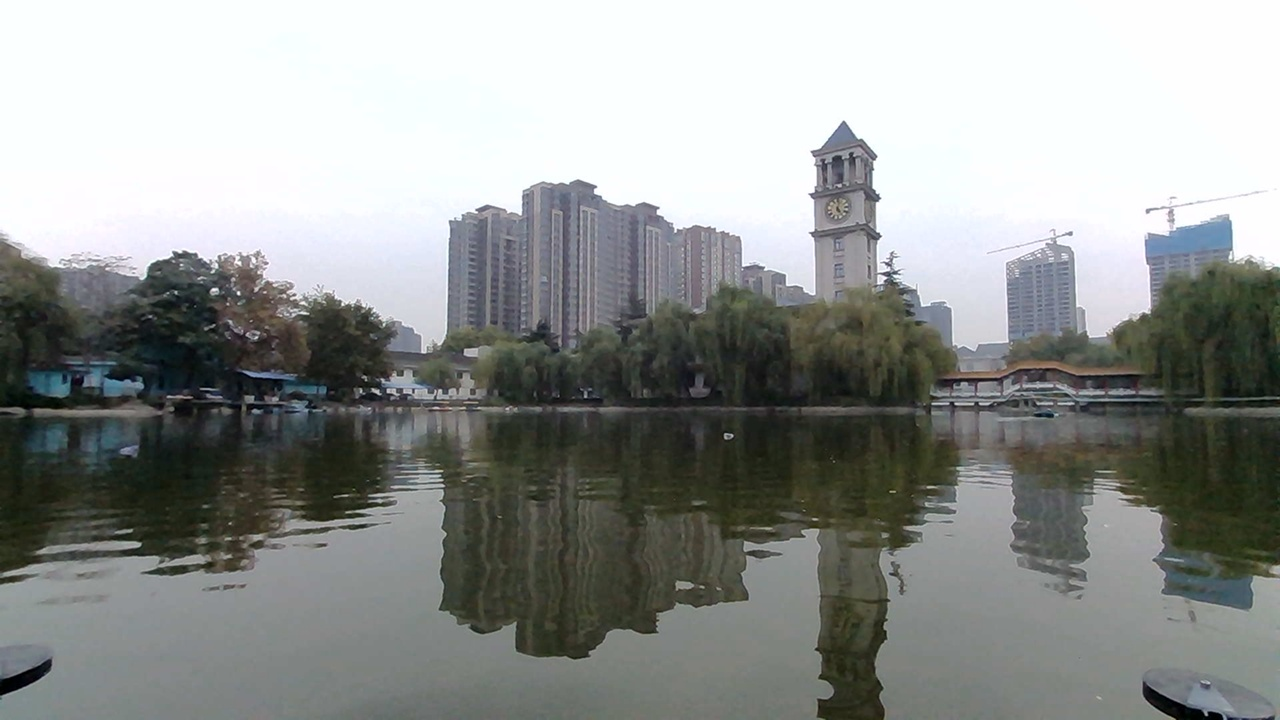bottle: (113, 433, 162, 470), (707, 419, 750, 448)
